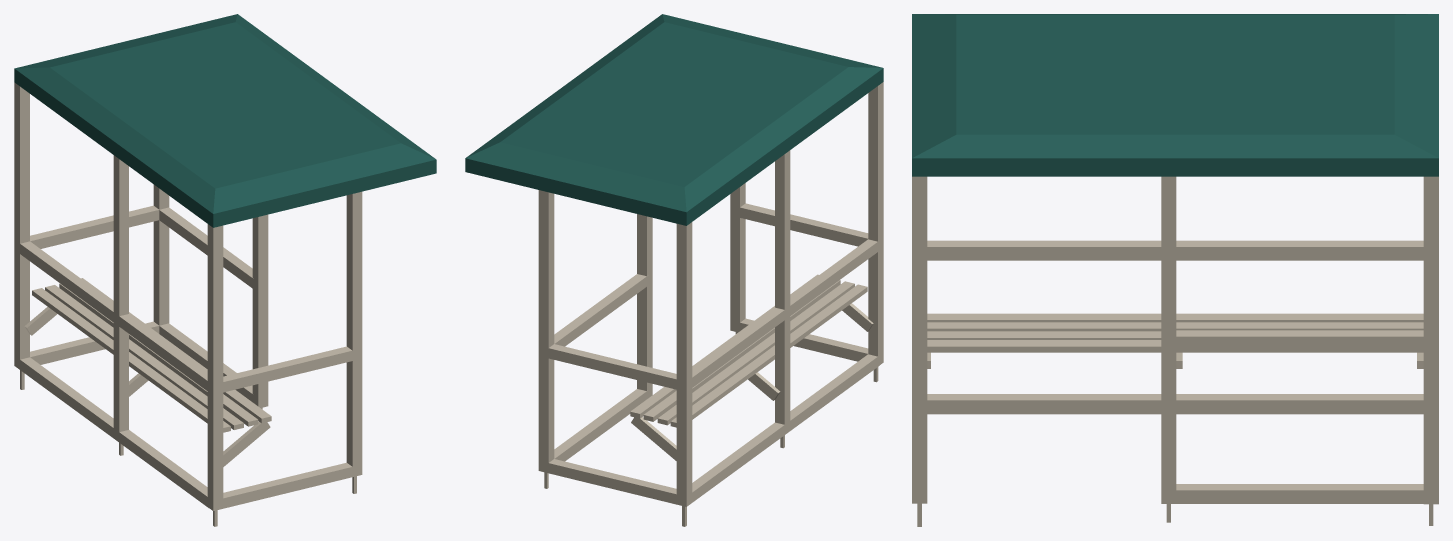
File: BusStop.fbx
3 views of the same model, side by side, from view 1: azimuth 30°, elevation 25°; view 2: azimuth 150°, elevation 25°; view 3: azimuth 270°, elevation 25° (orthographic). The views are drawn at different scales.
Parts seen in each view (by area): view 1: BusStop1_pCube29; view 2: BusStop1_pCube29; view 3: BusStop1_pCube29.
Part boxes in pixels (box(x1,y1,x2,y2)): BusStop1_pCube29: box(14, 14, 436, 526); BusStop1_pCube29: box(465, 14, 883, 526); BusStop1_pCube29: box(912, 14, 1438, 526).
Bounding box in the file's own units: 2.87 × 4.03 × 4.43.
